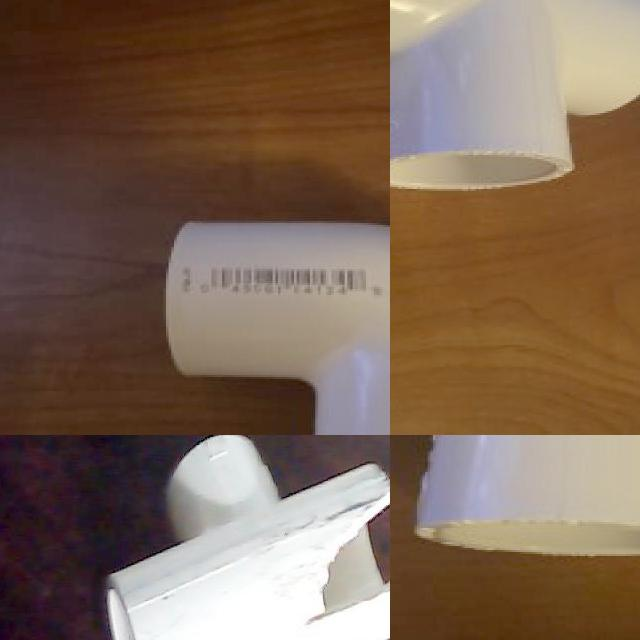Defective: (288, 484, 390, 640)
L Joint: (163, 221, 390, 435)
T Joint: (104, 435, 390, 640), (413, 435, 640, 559)
